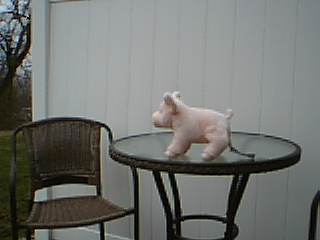piggy: (150, 90, 234, 163)
